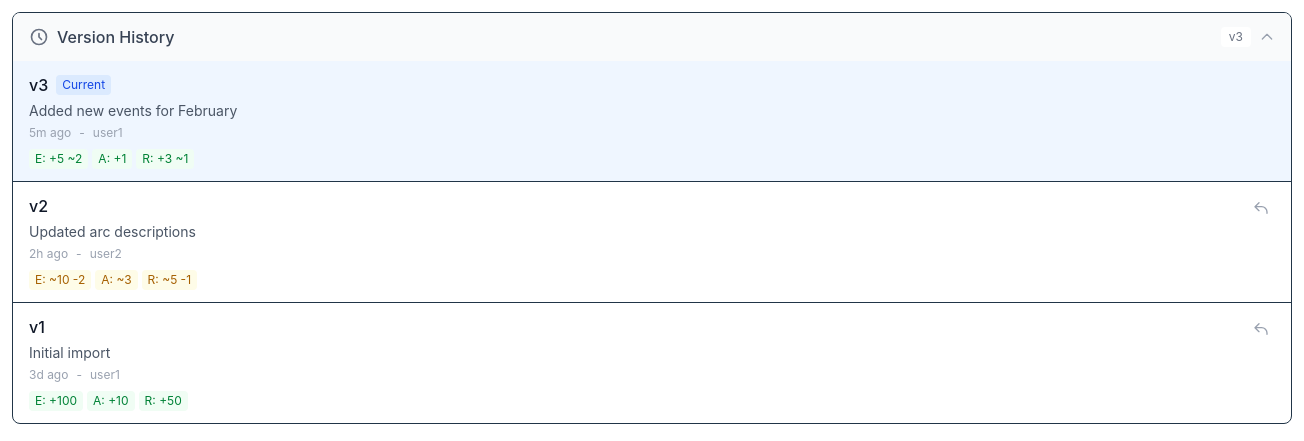
VersionHistoryPanel › Rollback Functionality › should show loading state while rolling back
This screenshot has width=1304, height=441.
Click the 1st button titled "Rollback to this version" at (1261, 208), box [1247,194,1275,222]
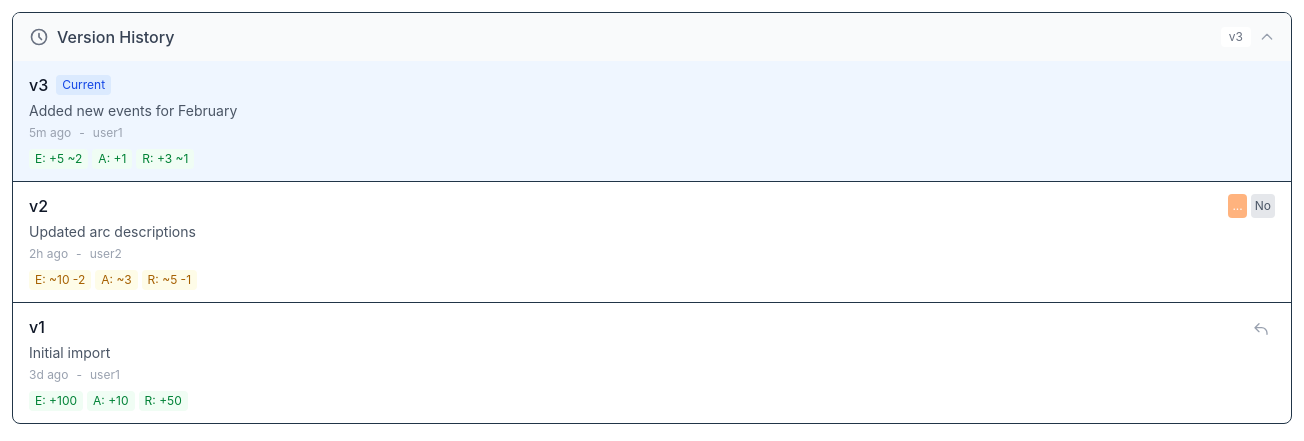
Expected: the button "..." is shown, [1228,194,1247,218]
